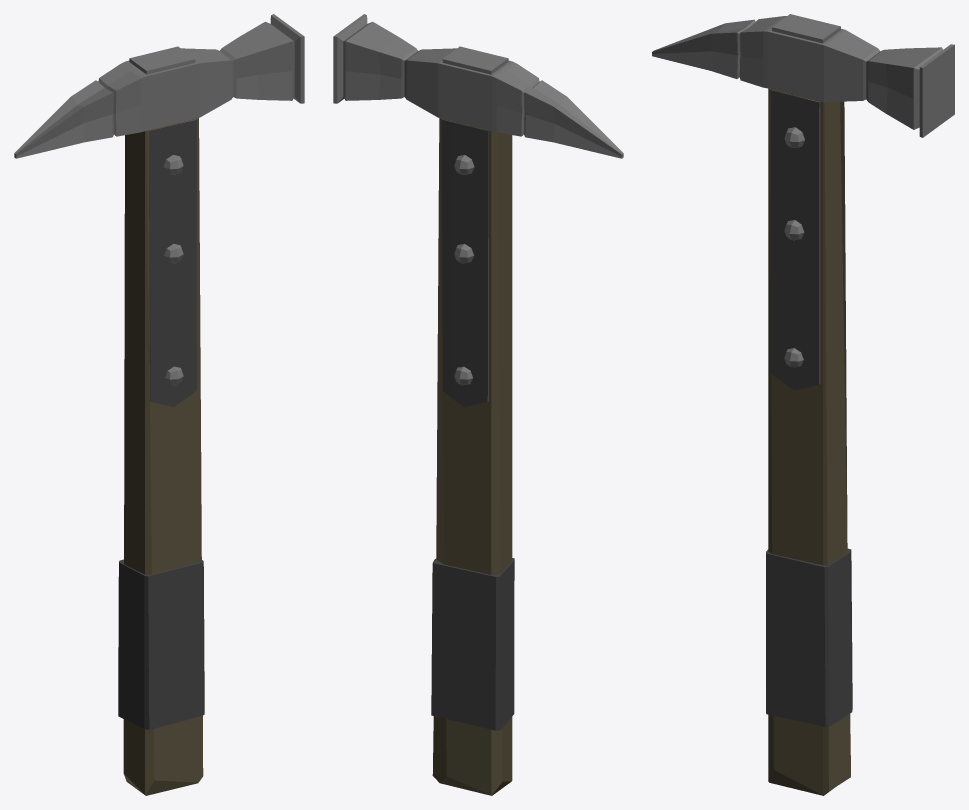
Rendered from W_WarHammer.fbx.
3 views of the same model, side by side, from view 1: azimuth 30°, elevation 25°; view 2: azimuth 150°, elevation 25°; view 3: azimuth 330°, elevation 25° (orthographic). The views are drawn at different scales.
Parts seen in each view (by area): view 1: WarHammer; view 2: WarHammer; view 3: WarHammer.
Boxes of the visible parts, x1,y1,x2,y2 form: WarHammer: (14, 14, 304, 795); WarHammer: (333, 14, 623, 795); WarHammer: (652, 14, 954, 795).
Bounding box in the file's own units: 0.5034 × 1.28 × 0.1022.
